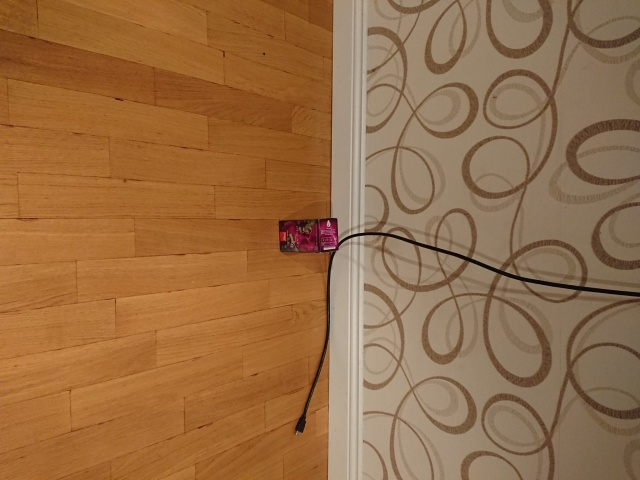Franck Black Currant Tea 60g: (276, 215, 341, 255)
